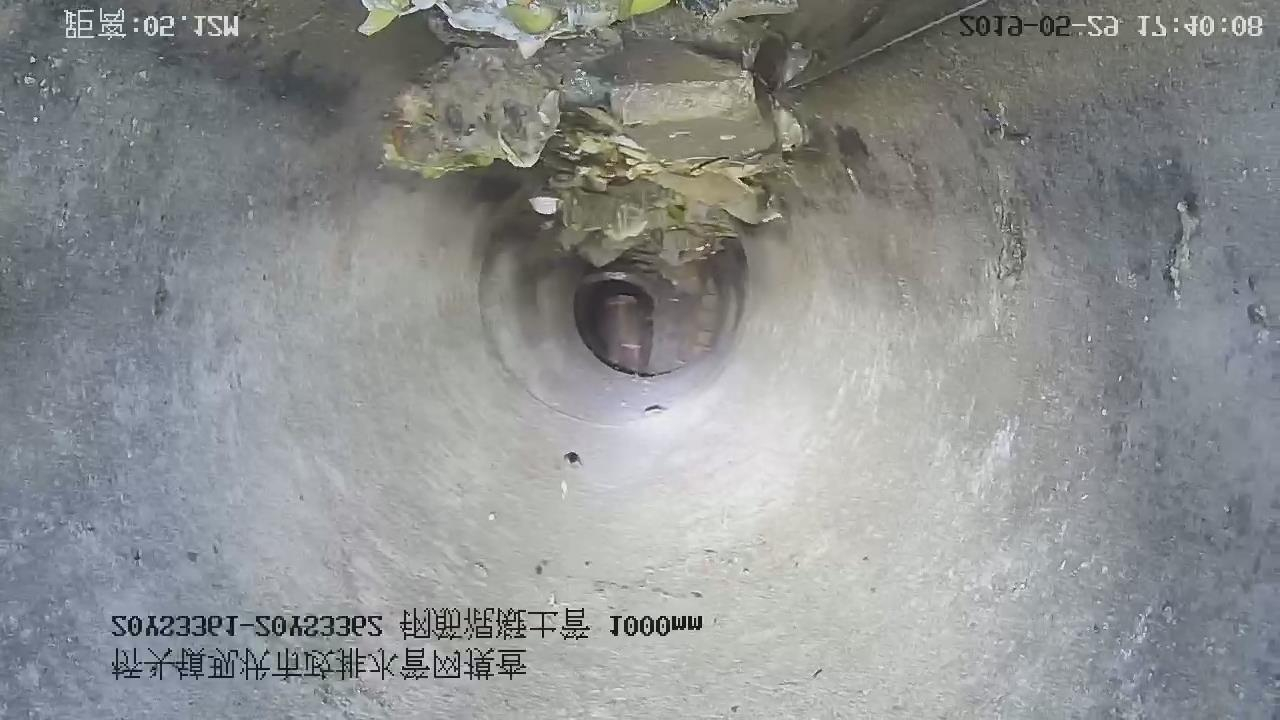ZAW: (361, 1, 809, 274)
